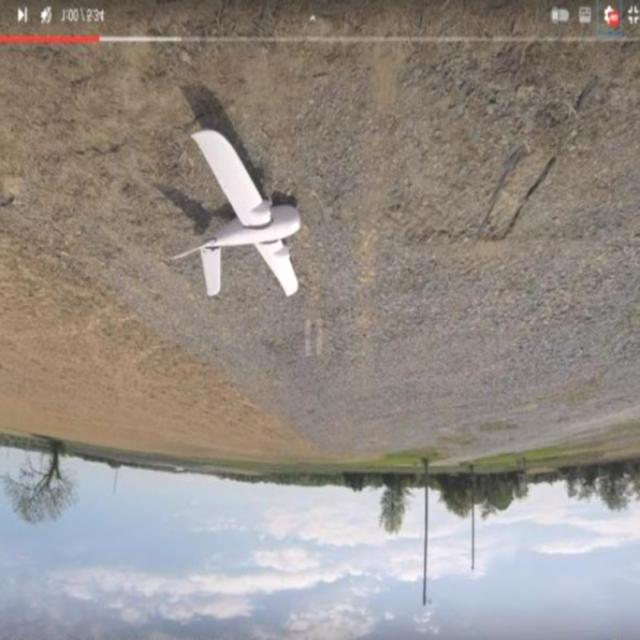plane: (168, 126, 302, 300)
